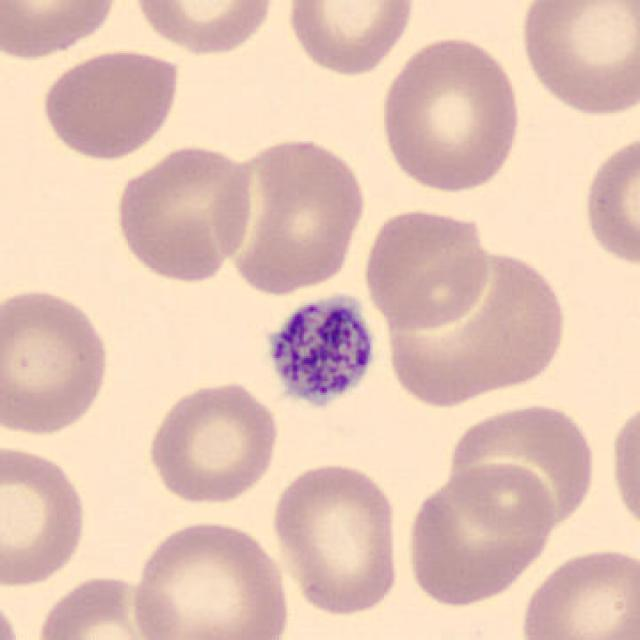Platelets: (260, 289, 378, 414)
RBC: (377, 243, 571, 409), (215, 132, 370, 298), (375, 32, 526, 195), (402, 460, 560, 610), (267, 456, 405, 618), (110, 141, 256, 286), (126, 516, 293, 640), (445, 398, 599, 532), (142, 377, 283, 508), (0, 284, 114, 439), (359, 203, 494, 333), (37, 46, 183, 162), (514, 0, 638, 120), (0, 439, 91, 591), (516, 543, 638, 640), (280, 0, 419, 79), (32, 571, 180, 640), (444, 458, 558, 540), (126, 0, 279, 56), (580, 129, 638, 273), (0, 0, 123, 62), (606, 395, 640, 541), (0, 589, 25, 640)
